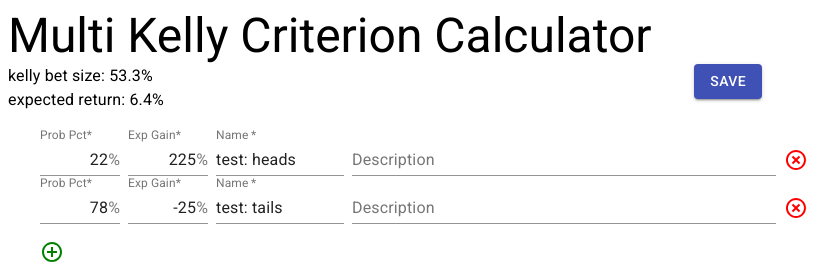
kelly editor › shows error when name is missing
Clear the 1st field showing "test: heads": (280, 160) top-left (216, 144), bottom-right (344, 176)
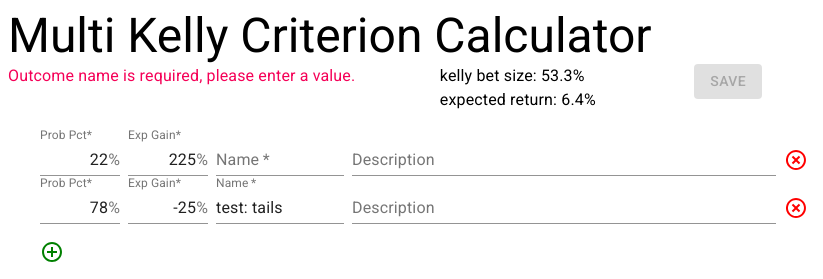
Expected: the text "Outcome name is required, please enter a value." is shown, top-left (8, 66), bottom-right (355, 85)
Expected: the button "Save" is disabled, top-left (694, 64), bottom-right (762, 99)
